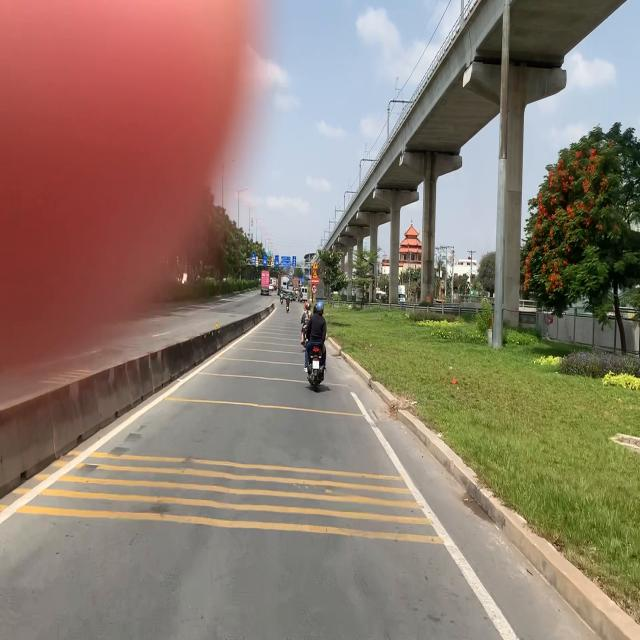Cam re phai: (312, 284, 317, 294)
Giao voi duong khong uu tien: (312, 260, 318, 269)
Nguy hiem: (312, 269, 319, 278)
